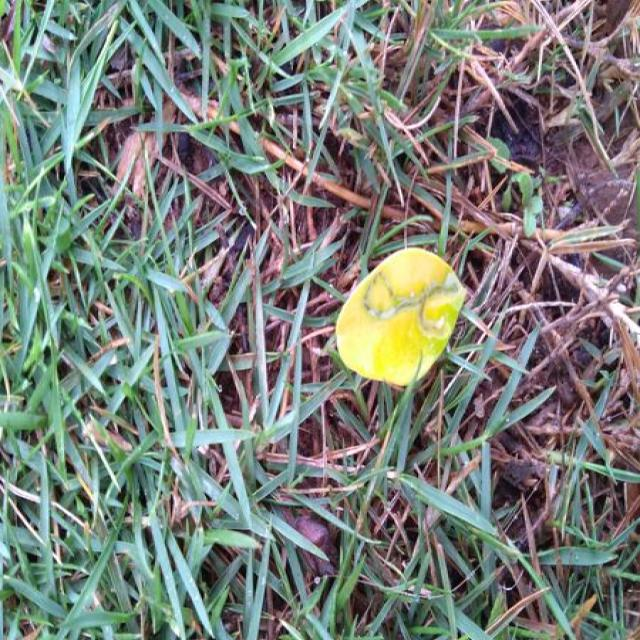drumstick: (335, 248, 467, 386)
